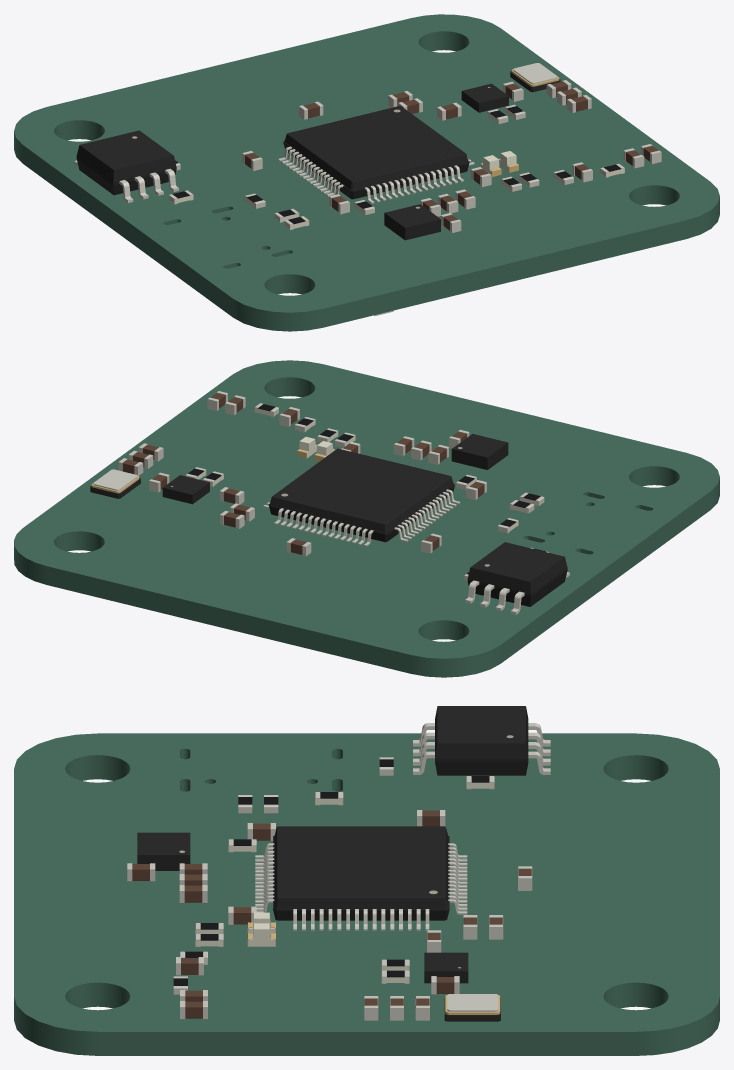
3 views of the same model, one above another, from view 1: azimuth 30°, elevation 25°; view 2: azimuth 150°, elevation 25°; view 3: azimuth 270°, elevation 25° (orthographic). The views are drawn at different scales.
Parts seen in each view (by area): view 1: =>[0:1:1:34], =>[0:1:1:17], =>[0:1:1:13], =>[0:1:1:15], =>[0:1:1:9], =>[0:1:1:11]; view 2: =>[0:1:1:34], =>[0:1:1:17], =>[0:1:1:13], =>[0:1:1:15], =>[0:1:1:11], =>[0:1:1:9]; view 3: =>[0:1:1:34], =>[0:1:1:17], =>[0:1:1:13], =>[0:1:1:15], =>[0:1:1:11], =>[0:1:1:9], =>[0:1:1:5].
Boxes of the visible parts, x1,y1,x2,y2 form: =>[0:1:1:34]: [14, 14, 719, 331]; =>[0:1:1:17]: [278, 106, 474, 203]; =>[0:1:1:13]: [74, 130, 178, 202]; =>[0:1:1:15]: [384, 204, 440, 240]; =>[0:1:1:9]: [461, 83, 508, 112]; =>[0:1:1:11]: [510, 63, 560, 92]; =>[0:1:1:34]: [14, 360, 719, 677]; =>[0:1:1:17]: [263, 448, 460, 546]; =>[0:1:1:13]: [465, 542, 569, 614]; =>[0:1:1:15]: [451, 434, 508, 469]; =>[0:1:1:11]: [90, 469, 140, 498]; =>[0:1:1:9]: [162, 475, 209, 504]; =>[0:1:1:34]: [14, 733, 719, 1055]; =>[0:1:1:17]: [255, 826, 467, 930]; =>[0:1:1:13]: [413, 706, 550, 775]; =>[0:1:1:15]: [137, 832, 190, 870]; =>[0:1:1:11]: [444, 994, 500, 1021]; =>[0:1:1:9]: [424, 952, 468, 983]; =>[0:1:1:5]: [247, 923, 275, 946].
Bounding box in the file's own units: 0.04 × 0.00544 × 0.04.
